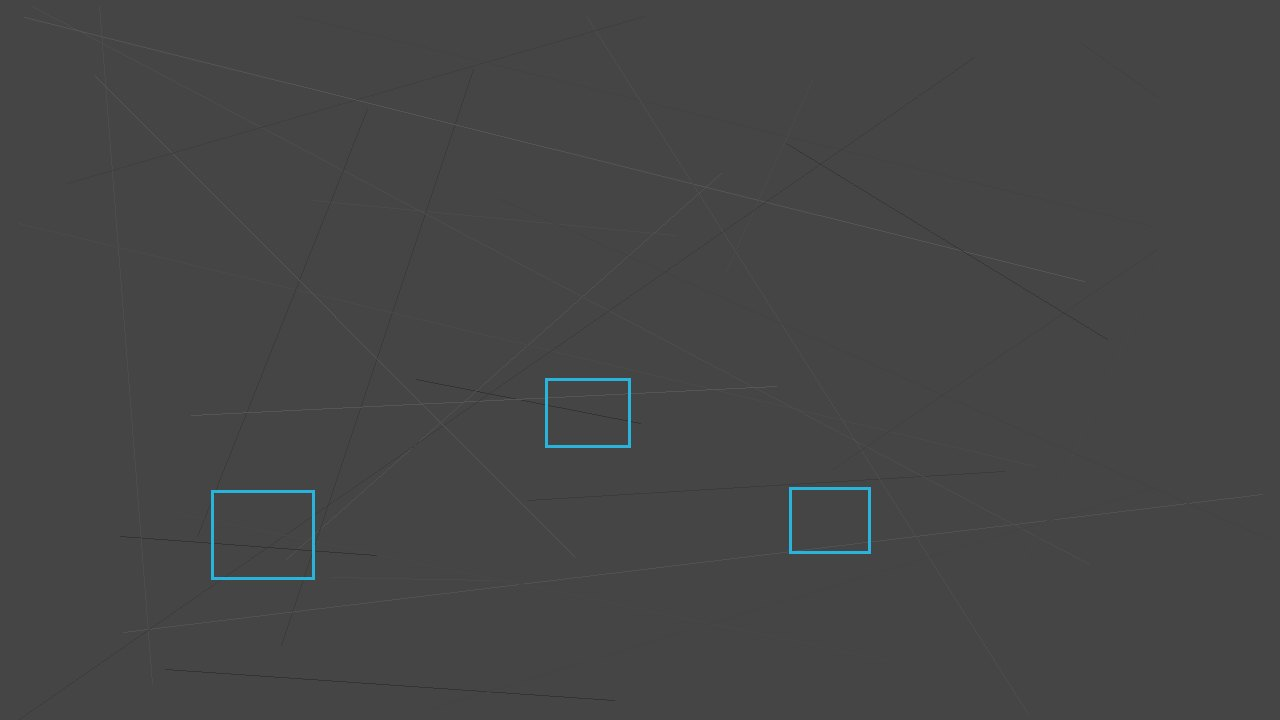D10: (545, 378, 630, 447), (789, 487, 870, 553)
D20: (211, 490, 314, 579)
